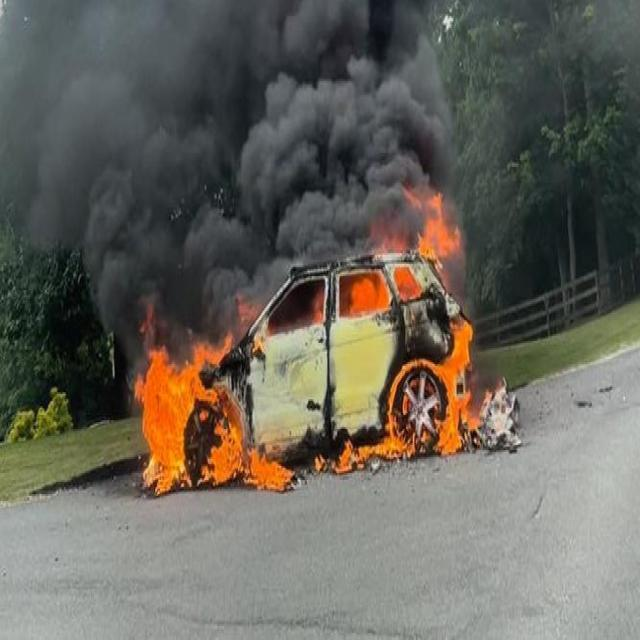Fire: (134, 308, 293, 497), (336, 320, 474, 472), (350, 176, 461, 316)
Smoke: (0, 0, 454, 355)
